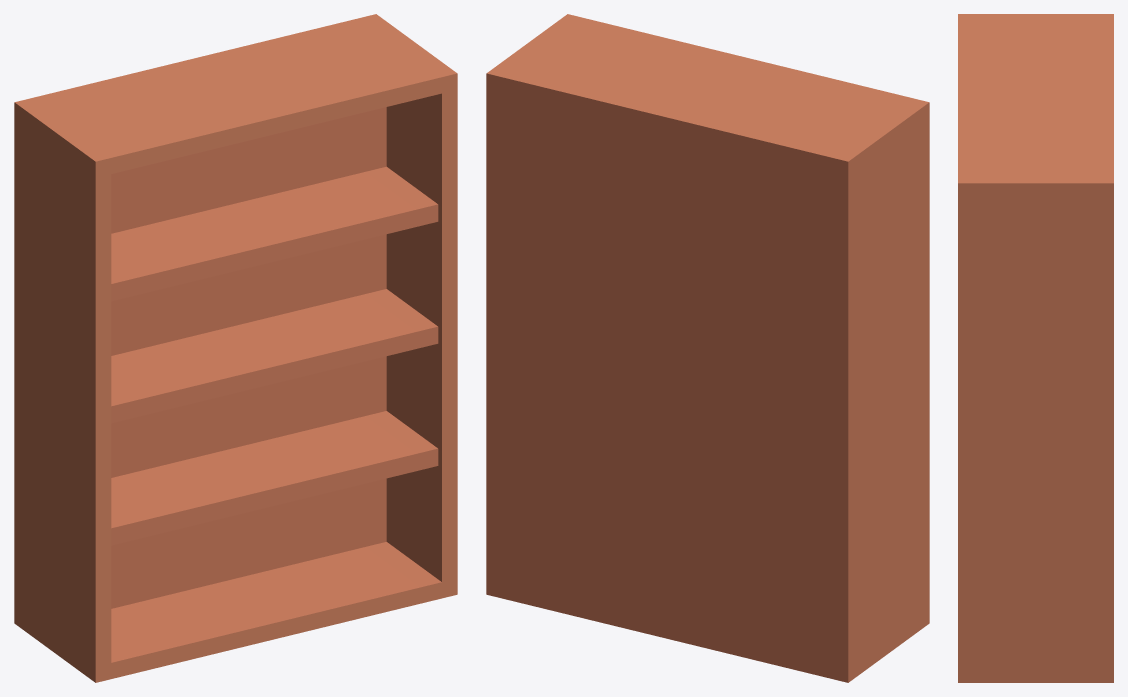
File: bookshelf.fbx
3 views of the same model, side by side, from view 1: azimuth 30°, elevation 25°; view 2: azimuth 150°, elevation 25°; view 3: azimuth 270°, elevation 25° (orthographic). The views are drawn at different scales.
Visible parts, largest first — view 1: bookshelf; view 2: bookshelf; view 3: bookshelf.
Boxes of the visible parts, bbox=[...] form: bookshelf: bbox=[14, 14, 457, 682]; bookshelf: bbox=[486, 14, 929, 682]; bookshelf: bbox=[958, 14, 1113, 682].
Size of the model in its own units: 77.96 by 107 by 30.3.
